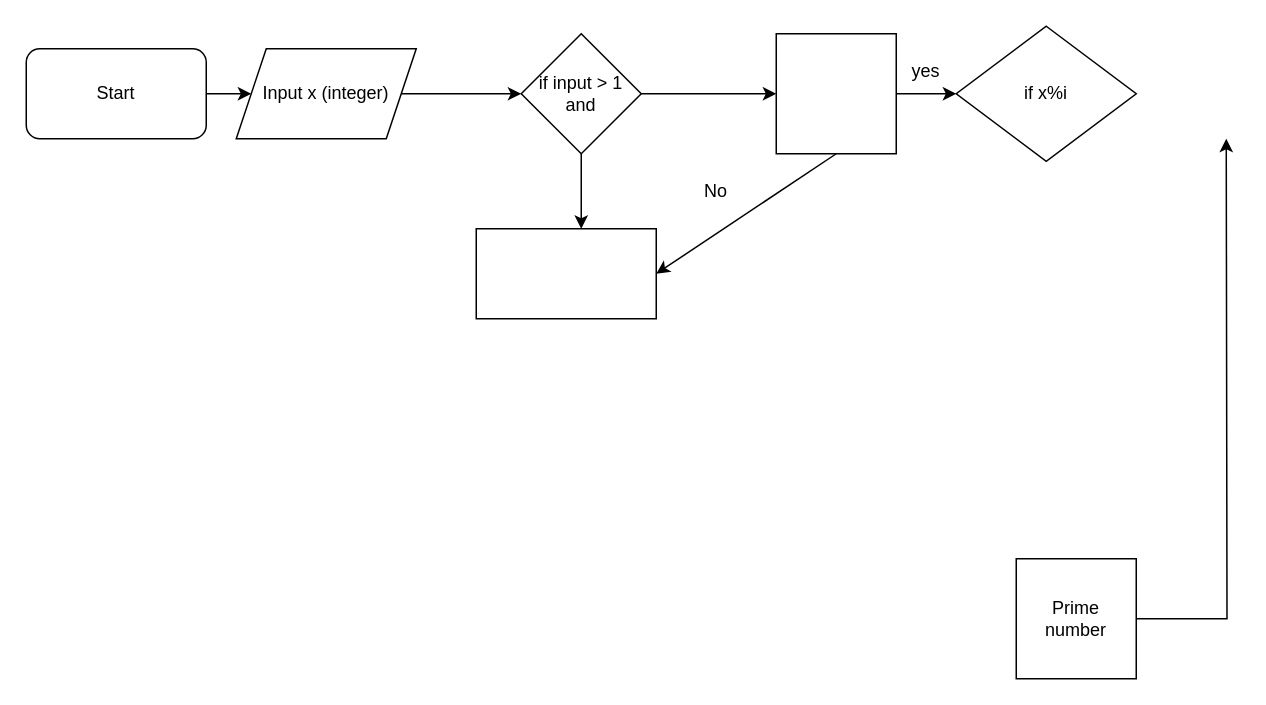
This 1266x705 diagram has some shape labels left out. Each missing label, with the box of its shape:
for i range (2,x-1) i%i==0: (775, 32, 896, 154)
Not a prime number: (475, 227, 656, 319)
